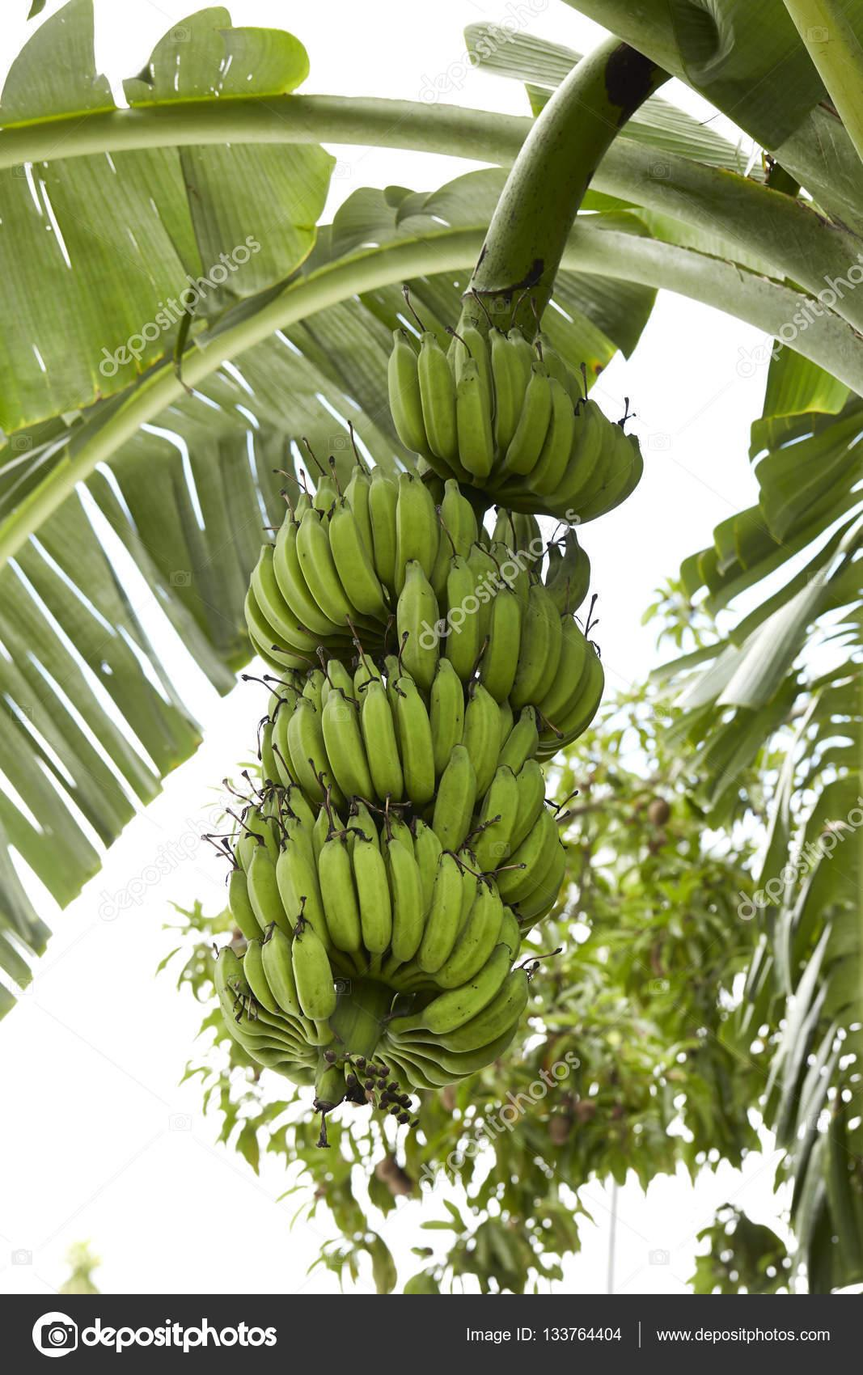Banana Unripe: (174, 239, 671, 1225)
